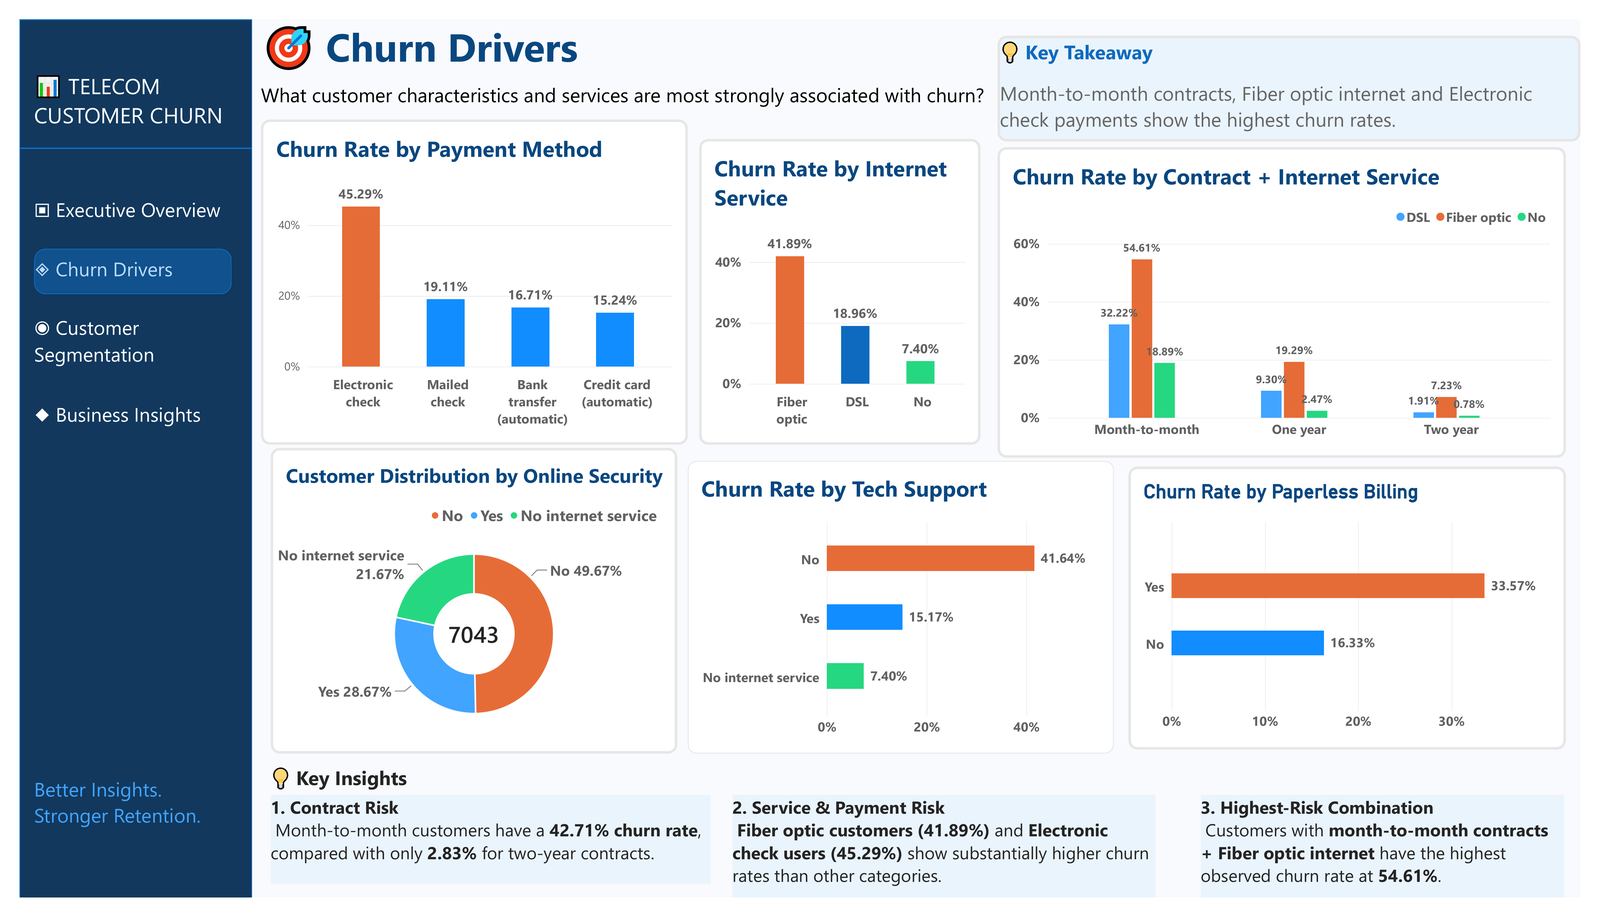

What the dashboard file says about the page in this screenshot:
{"tool":"powerbi","page":{"name":"Page 2","canvas":[1920,1080],"ordinal":1},"visuals":[{"type":"shape","box":[0,0,286.1,1080.6],"z":0},{"type":"textbox","box":[18.1,63.3,242.5,86.9],"z":1000},{"type":"shape","box":[0,99.5,285.9,117.6],"z":2000},{"type":"textbox","box":[18.1,289.5,242.5,38],"z":3000},{"type":"textbox","box":[18.1,361.9,267.8,67],"z":4000},{"type":"textbox","box":[18.1,468.7,242.5,54.3],"z":5000},{"type":"textbox","box":[18.1,930.2,242.5,103.2],"z":6000},{"type":"shape","box":[18.1,282.3,242.5,56.1],"z":7000},{"type":"textbox","box":[18.1,217.2,242.5,41.6],"z":8000},{"type":"textbox","box":[297.5,0,462.3,64.2],"z":9000},{"type":"textbox","box":[296.8,76,926.5,47.1],"z":10000},{"type":"textbox","box":[1203.4,19.9,716.6,130.3],"z":11000},{"type":"clusteredColumnChart","title":"Churn Rate by Payment Method","fields":{"Category":["WA_Fn-UseC_-Telco-Customer-Churn.PaymentMethod"],"Y":["WA_Fn-UseC_-Telco-Customer-Churn.Churn Rate"]},"box":[296.8,123.1,524.8,399.9],"z":12000},{"type":"clusteredColumnChart","title":"Churn Rate by Internet Service","fields":{"Category":["WA_Fn-UseC_-Telco-Customer-Churn.InternetService"],"Y":["WA_Fn-UseC_-Telco-Customer-Churn.Churn Rate"]},"box":[836.1,146.6,345.6,376.4],"z":13000},{"type":"clusteredColumnChart","title":"Churn Rate by Contract + Internet Service","fields":{"Category":["WA_Fn-UseC_-Telco-Customer-Churn.Contract"],"Series":["WA_Fn-UseC_-Telco-Customer-Churn.InternetService"],"Y":["WA_Fn-UseC_-Telco-Customer-Churn.Churn Rate"]},"box":[1203.4,157.4,698.5,381.8],"z":14000},{"type":"donutChart","title":"Customer Distribution by Online Security","fields":{"Category":["WA_Fn-UseC_-Telco-Customer-Churn.OnlineSecurity"],"Y":["CountNonNull(WA_Fn-UseC_-Telco-Customer-Churn.customerID)"]},"box":[309.5,526.6,499.5,376.4],"z":15000},{"type":"barChart","title":"Churn Rate by Tech Support","fields":{"Category":["WA_Fn-UseC_-Telco-Customer-Churn.TechSupport"],"Y":["WA_Fn-UseC_-Telco-Customer-Churn.Churn Rate"]},"box":[821.6,542.9,524.8,360.1],"z":16000},{"type":"clusteredBarChart","title":"Churn Rate by Paperless Billing","fields":{"Category":["WA_Fn-UseC_-Telco-Customer-Churn.PaperlessBilling"],"Y":["WA_Fn-UseC_-Telco-Customer-Churn.Churn Rate"]},"box":[1364.5,550.1,537.5,347.5],"z":17000},{"type":"textbox","box":[309.5,915.7,191.8,38],"z":18000,"group":"g1"},{"type":"textbox","box":[309.5,953.7,541.1,108.6],"z":19000,"group":"g1"},{"type":"textbox","box":[877.7,953.7,519.4,126.7],"z":20000,"group":"g1"},{"type":"textbox","box":[1453.2,953.7,447,126.7],"z":21000,"group":"g1"},{"type":"group","id":"g1","title":"Group 1","box":[309.5,915.7,1590.7,164.7],"z":21001}]}

Visuals, with their boxes on the page's 1920x1080 design canvas (x1, y1, x2, y2). These are canvas units, not pixel positions in the 1600x917 screenshot, which may show the page scaled, cropped or inside an application window:
shape: BBox(0, 0, 286, 1081)
textbox: BBox(18, 63, 261, 150)
shape: BBox(0, 100, 286, 217)
textbox: BBox(18, 290, 261, 328)
textbox: BBox(18, 362, 286, 429)
textbox: BBox(18, 469, 261, 523)
textbox: BBox(18, 930, 261, 1033)
shape: BBox(18, 282, 261, 338)
textbox: BBox(18, 217, 261, 259)
textbox: BBox(298, 0, 760, 64)
textbox: BBox(297, 76, 1223, 123)
textbox: BBox(1203, 20, 1920, 150)
"Churn Rate by Payment Method" clusteredColumnChart: BBox(297, 123, 822, 523)
"Churn Rate by Internet Service" clusteredColumnChart: BBox(836, 147, 1182, 523)
"Churn Rate by Contract + Internet Service" clusteredColumnChart: BBox(1203, 157, 1902, 539)
"Customer Distribution by Online Security" donutChart: BBox(310, 527, 809, 903)
"Churn Rate by Tech Support" barChart: BBox(822, 543, 1346, 903)
"Churn Rate by Paperless Billing" clusteredBarChart: BBox(1364, 550, 1902, 898)
textbox: BBox(310, 916, 501, 954)
textbox: BBox(310, 954, 851, 1062)
textbox: BBox(878, 954, 1397, 1080)
textbox: BBox(1453, 954, 1900, 1080)
"Group 1" group: BBox(310, 916, 1900, 1080)
